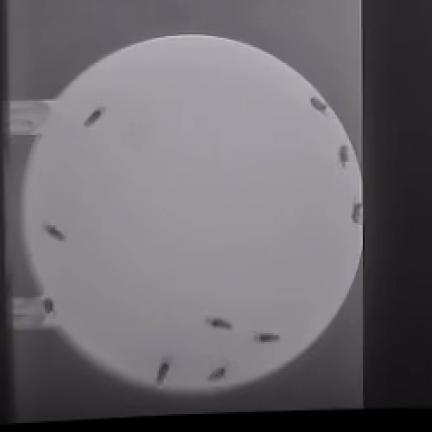fly: (156, 359, 171, 386), (85, 107, 105, 127), (44, 224, 65, 241), (206, 317, 233, 329), (208, 366, 226, 381), (310, 98, 328, 113), (351, 202, 362, 224), (255, 333, 279, 343), (42, 297, 55, 314), (339, 146, 349, 167)
